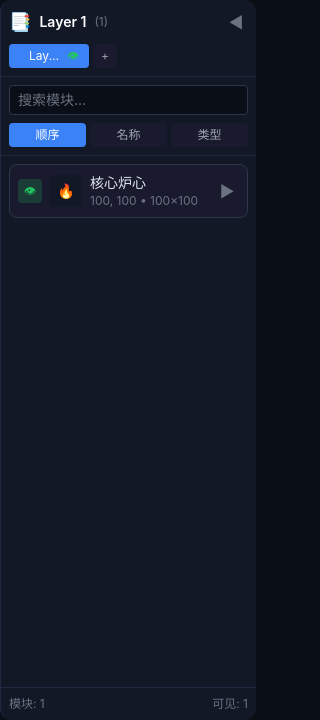
LayersPanel › Z-Order Controls › should expand module to show z-order controls
Click the button with test id "layer-expand-m1".
click(227, 191)  # box [215, 179, 239, 203]
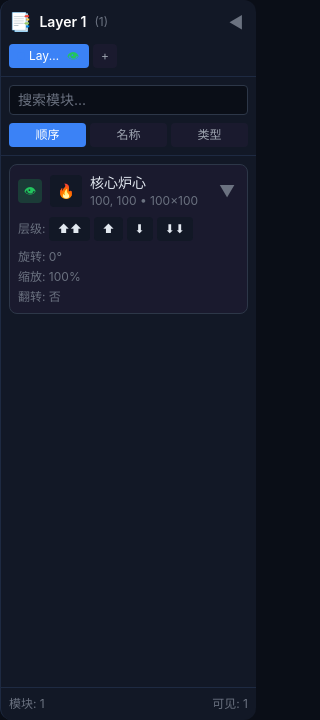
Now the button with test id "layer-move-top-m1" is shown, box [50, 217, 90, 241]
Now the button with test id "layer-move-up-m1" is shown, box [94, 217, 123, 241]
Now the button with test id "layer-move-down-m1" is shown, box [127, 217, 153, 241]
